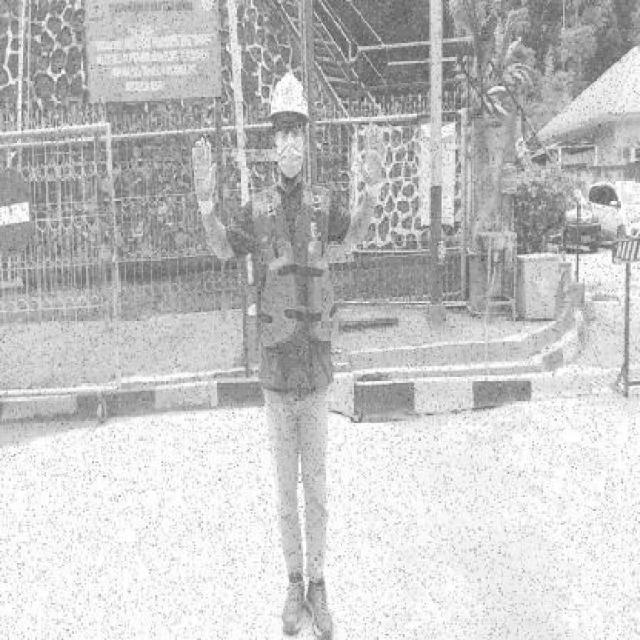Boots: (304, 577, 336, 638), (281, 570, 305, 638)
Gloves: (354, 118, 386, 200), (191, 134, 218, 218)
Helmet: (270, 70, 308, 118)
Mask: (277, 138, 303, 178)
Protective Glasses: (277, 120, 305, 138)
Vest: (258, 235, 339, 351)
